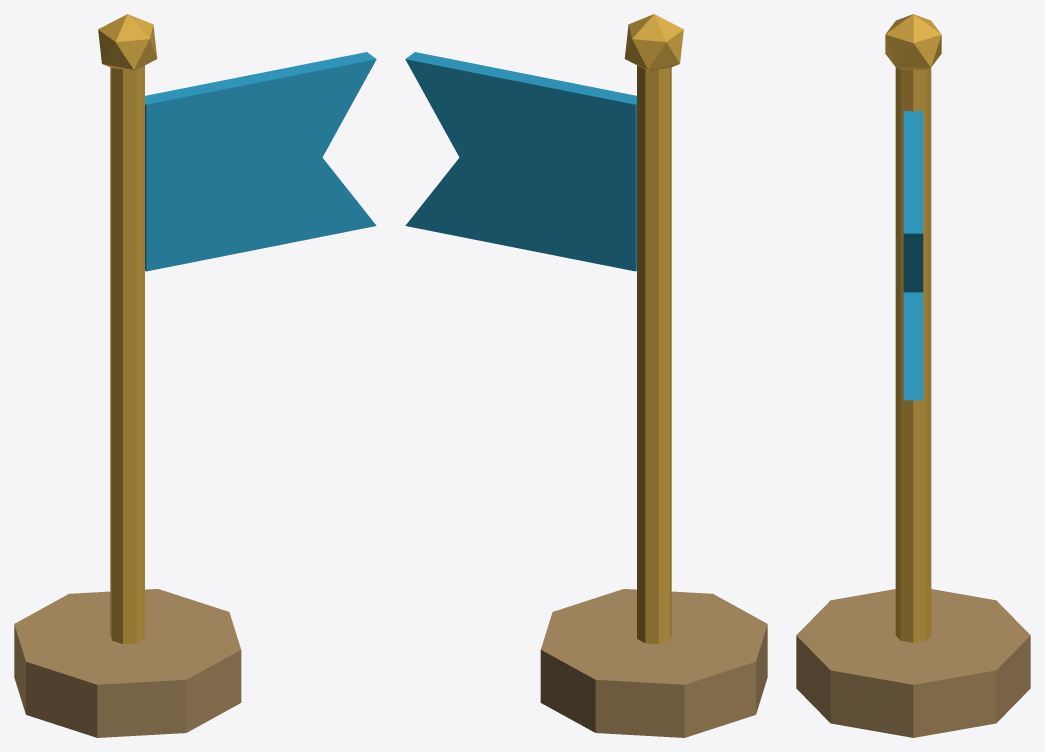
Rendered from banner.glb.
3 renders of one model, left to right at view 1: azimuth 30°, elevation 25°; view 2: azimuth 150°, elevation 25°; view 3: azimuth 270°, elevation 25°, orthographic.
Parts seen in each view (by area): view 1: banner_TOY_BODY_VERTEX_COLOR, banner_TEAM_BLUE; view 2: banner_TOY_BODY_VERTEX_COLOR, banner_TEAM_BLUE; view 3: banner_TOY_BODY_VERTEX_COLOR, banner_TEAM_BLUE.
Boxes of the visible parts, left/top/right/bottom form: banner_TOY_BODY_VERTEX_COLOR: left=14, top=14, right=241, bottom=737; banner_TEAM_BLUE: left=145, top=52, right=376, bottom=271; banner_TOY_BODY_VERTEX_COLOR: left=540, top=14, right=767, bottom=737; banner_TEAM_BLUE: left=405, top=52, right=636, bottom=271; banner_TOY_BODY_VERTEX_COLOR: left=796, top=14, right=1030, bottom=737; banner_TEAM_BLUE: left=903, top=111, right=923, bottom=400.
Bounding box in the file's own units: 1.02 × 1.91 × 0.6.
